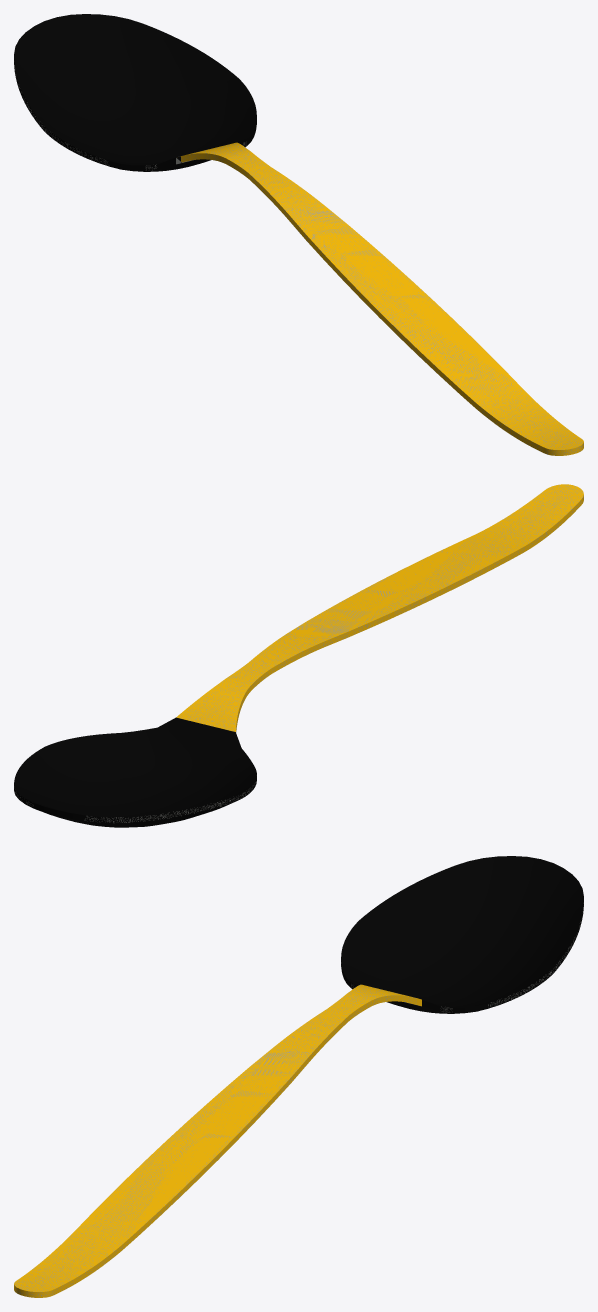
The model's file is spoon_03_origin_gt_1.dae.
3 views of the same model, one above another, from view 1: azimuth 30°, elevation 25°; view 2: azimuth 150°, elevation 25°; view 3: azimuth 330°, elevation 25° (orthographic).
Visible parts, largest first — view 1: Lepel (×3); view 2: Lepel (×3); view 3: Lepel (×3).
Part boxes in pixels (x1=…): Lepel (×3): x1=14, y1=14, x2=583, y2=455; Lepel (×3): x1=14, y1=484, x2=583, y2=827; Lepel (×3): x1=14, y1=856, x2=583, y2=1297.
Bounding box in the file's own units: 1.65 × 7.6 × 0.5192.
